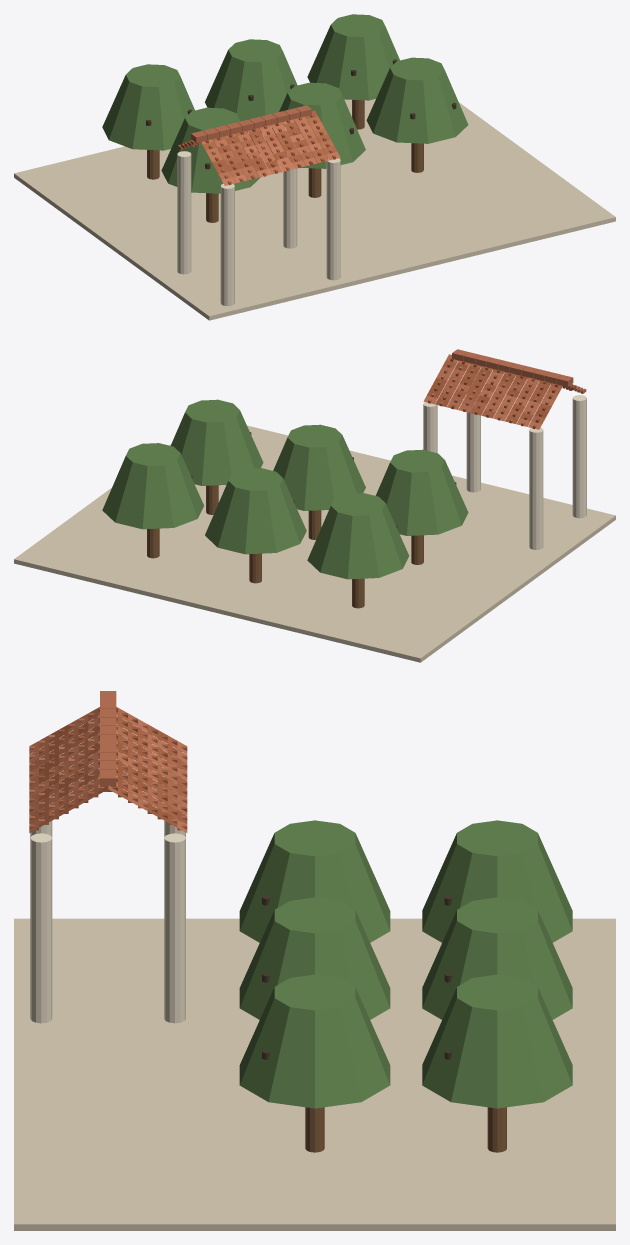
The picture shows the model from 3 angles, top to bottom: view 1: azimuth 30°, elevation 25°; view 2: azimuth 150°, elevation 25°; view 3: azimuth 270°, elevation 25°; orthographic projection. The views are drawn at different scales.
Visible parts, largest first — view 1: Bergfried – Steine, Säulen, Ziegel und Feuerstelle; view 2: Bergfried – Steine, Säulen, Ziegel und Feuerstelle; view 3: Bergfried – Steine, Säulen, Ziegel und Feuerstelle.
Part boxes in pixels (x1,y1,x2,y2): Bergfried – Steine, Säulen, Ziegel und Feuerstelle: [14, 14, 615, 320]; Bergfried – Steine, Säulen, Ziegel und Feuerstelle: [14, 349, 615, 662]; Bergfried – Steine, Säulen, Ziegel und Feuerstelle: [14, 691, 615, 1230].
Size of the model in its own units: 1190 by 445 by 990.
